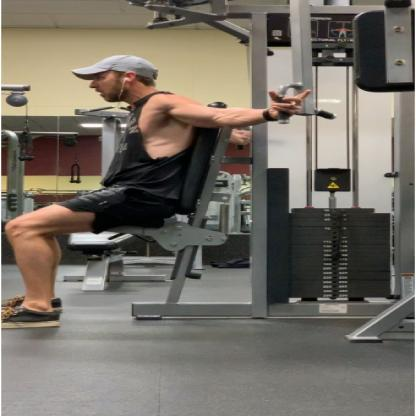chest fly machine: (0, 0, 416, 352)
